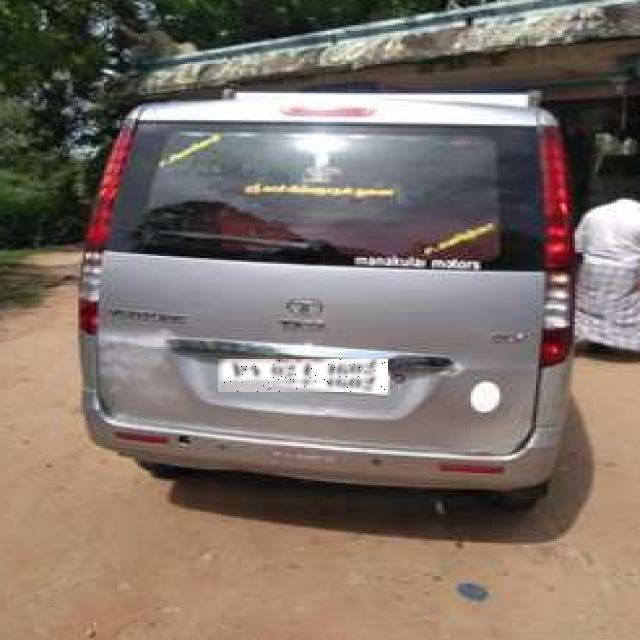Plate: (219, 360, 389, 393)
